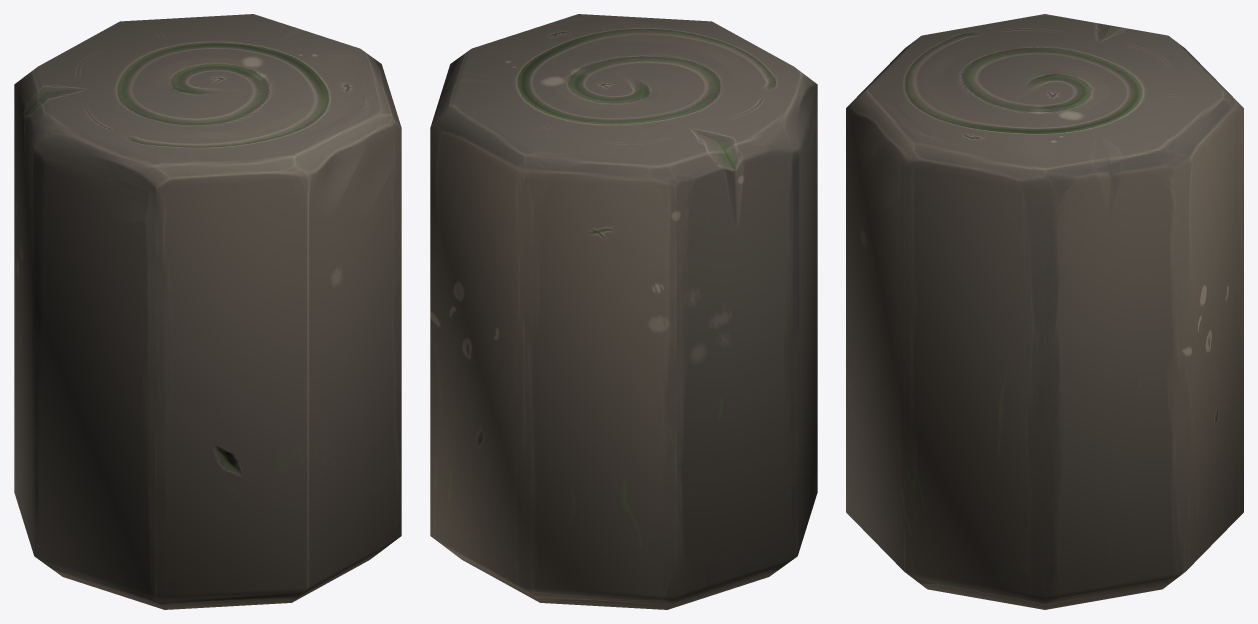
Rendered from SM_Small_Rock_1_JFG.fbx.
The picture shows the model from 3 angles, left to right: view 1: azimuth 30°, elevation 25°; view 2: azimuth 150°, elevation 25°; view 3: azimuth 270°, elevation 25°; orthographic projection.
Parts seen in each view (by area): view 1: SM_Small_Rock_1_JFG; view 2: SM_Small_Rock_1_JFG; view 3: SM_Small_Rock_1_JFG.
Part boxes in pixels (x1=…): SM_Small_Rock_1_JFG: x1=14, y1=14, x2=401, y2=609; SM_Small_Rock_1_JFG: x1=430, y1=14, x2=817, y2=609; SM_Small_Rock_1_JFG: x1=846, y1=14, x2=1243, y2=609.
Bounding box in the file's own units: 0.3536 × 0.443 × 0.3536.
